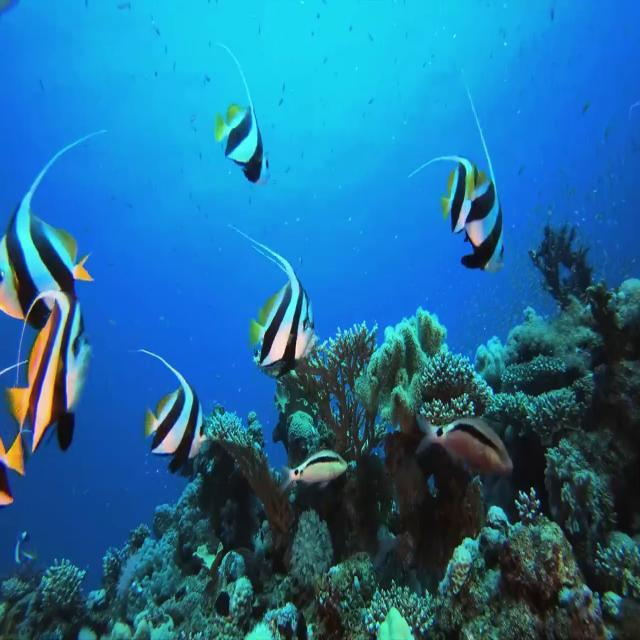fish: (402, 60, 515, 276), (0, 128, 121, 318), (215, 234, 318, 381), (0, 291, 93, 453), (202, 36, 276, 198), (124, 338, 215, 465), (413, 394, 520, 480), (285, 445, 355, 492)
